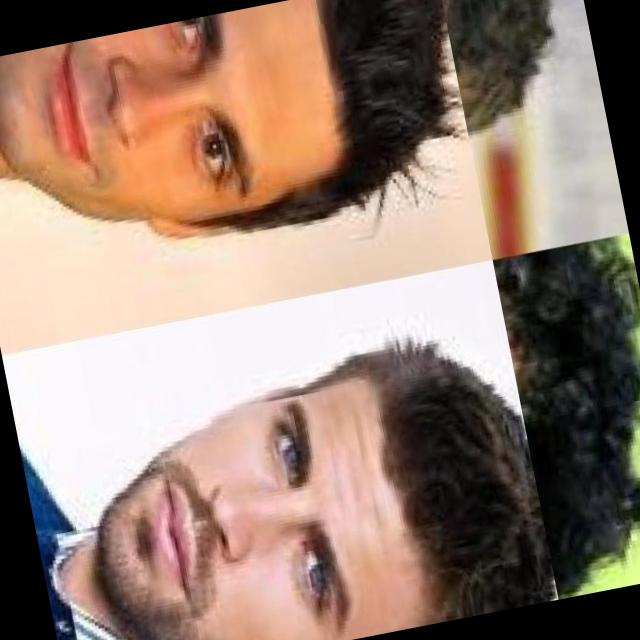bareface: (0, 0, 457, 294), (96, 369, 521, 640)
